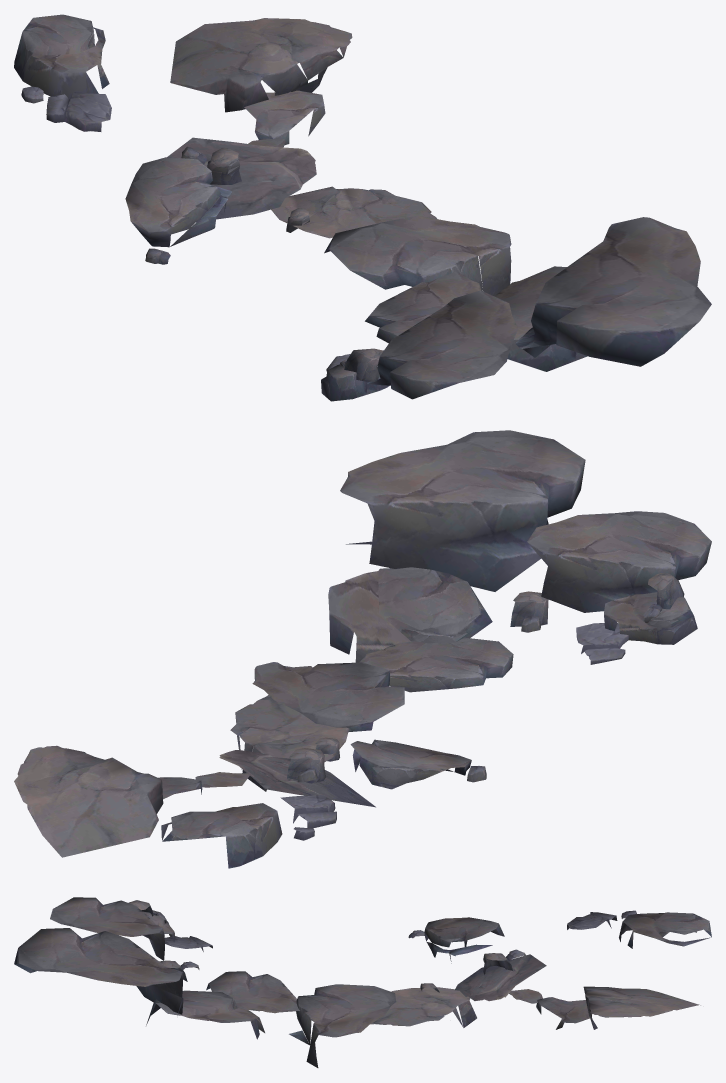
The model's file is shitpi_14.FBX.
3 renders of one model, top to bottom at view 1: azimuth 30°, elevation 25°; view 2: azimuth 150°, elevation 25°; view 3: azimuth 270°, elevation 25°, orthographic. The views are drawn at different scales.
Parts seen in each view (by area): view 1: shitpi_14; view 2: shitpi_14; view 3: shitpi_14.
Part boxes in pixels (x1=…): shitpi_14: x1=14, y1=14, x2=711, y2=401; shitpi_14: x1=14, y1=430, x2=711, y2=868; shitpi_14: x1=14, y1=897, x2=711, y2=1067.
Size of the model in its own units: 5.08 by 2.03 by 12.32.
